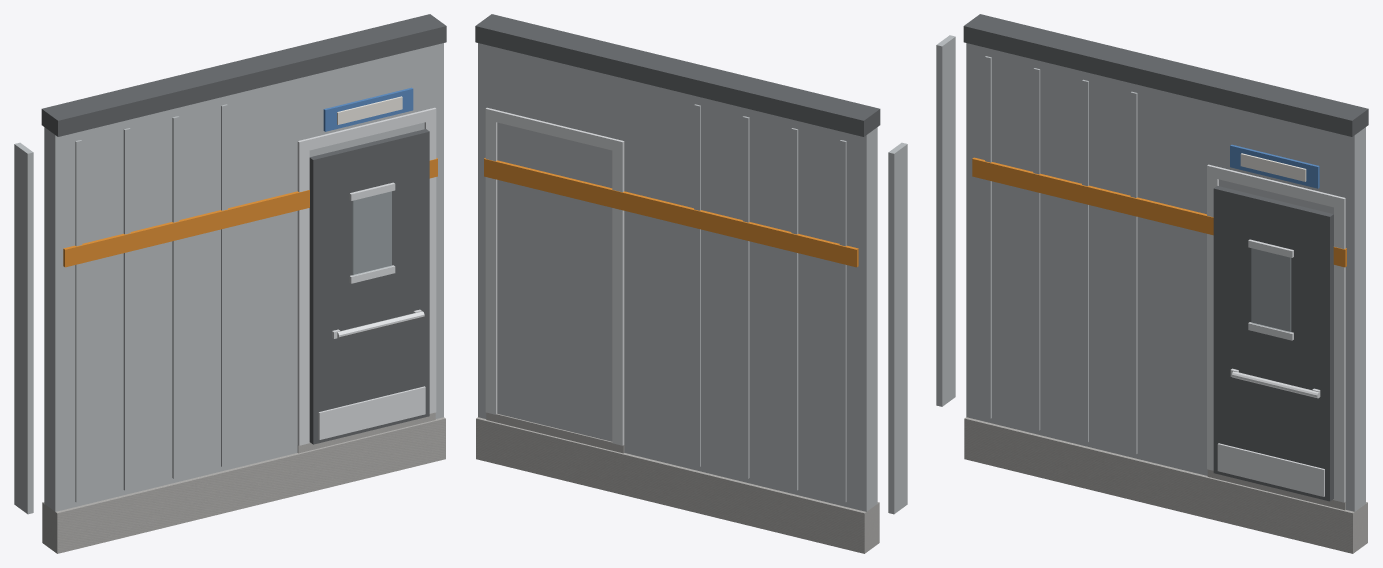
The model's file is tool-hire-depot-and-plant-yard-tool-hire-depot-and-pla-d8702f71__35292.glb.
3 views of the same model, side by side, from view 1: azimuth 30°, elevation 25°; view 2: azimuth 150°, elevation 25°; view 3: azimuth 330°, elevation 25° (orthographic).
Parts seen in each view (by area): view 1: tool-hire-depot-and-plant-yard-staff-door-module, staff-door/charcoal, staff-door/steel, staff-door/glass; view 2: tool-hire-depot-and-plant-yard-staff-door-module; view 3: tool-hire-depot-and-plant-yard-staff-door-module, staff-door/charcoal, staff-door/steel, staff-door/glass.
Boxes of the visible parts, box(x1,y1,x2,y2) form: tool-hire-depot-and-plant-yard-staff-door-module: box(14, 14, 446, 553); staff-door/charcoal: box(309, 129, 429, 444); staff-door/steel: box(318, 182, 425, 439); staff-door/glass: box(352, 191, 391, 275); tool-hire-depot-and-plant-yard-staff-door-module: box(475, 14, 907, 553); tool-hire-depot-and-plant-yard-staff-door-module: box(936, 14, 1368, 553); staff-door/charcoal: box(1213, 186, 1333, 501); staff-door/steel: box(1217, 239, 1324, 496); staff-door/glass: box(1251, 248, 1291, 332).
Size of the model in its own units: 3.22 by 3.2 by 0.3059.
Materials: 8 (1 with a texture image).
